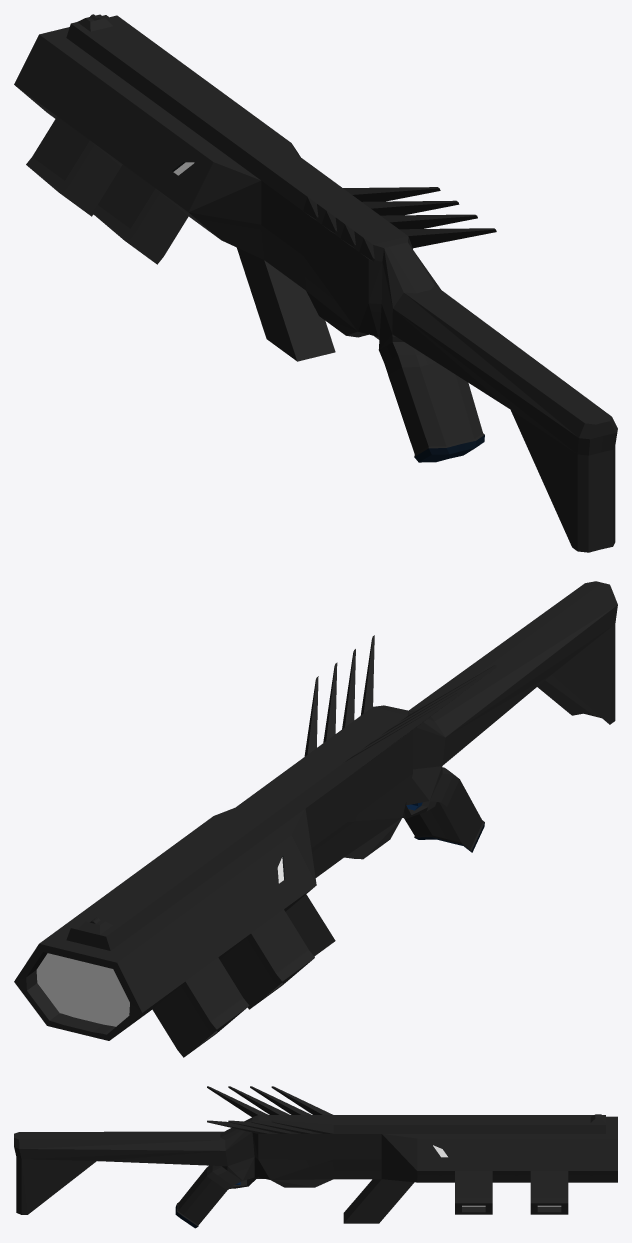
The model's file is Plasma_Shotgun_mk_2.fbx.
3 renders of one model, top to bottom at view 1: azimuth 30°, elevation 25°; view 2: azimuth 150°, elevation 25°; view 3: azimuth 270°, elevation 25°, orthographic. The views are drawn at different scales.
Parts seen in each view (by area): view 1: Shotgun_mk_2; view 2: Shotgun_mk_2; view 3: Shotgun_mk_2.
Part boxes in pixels (box(x1,y1,x2,y2)): Shotgun_mk_2: box(14, 14, 617, 552); Shotgun_mk_2: box(14, 581, 617, 1057); Shotgun_mk_2: box(14, 1086, 617, 1228).
Bounding box in the file's own units: 125 × 26.26 × 26.84.
